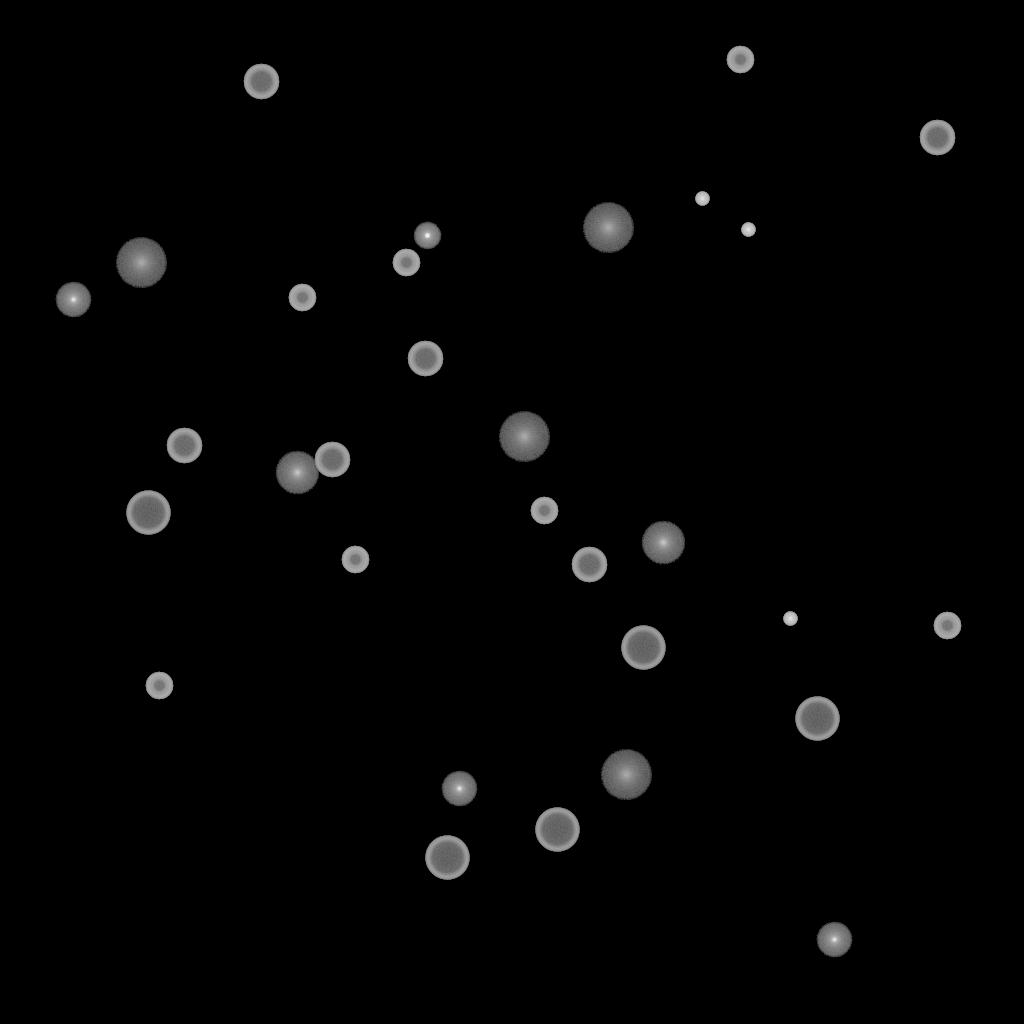depth:-10: (413, 222, 441, 250)
depth:-30: (741, 223, 755, 237), (783, 612, 797, 626), (695, 192, 709, 206)
depth:-50: (392, 249, 420, 277), (288, 284, 316, 312), (933, 612, 961, 640), (145, 672, 173, 700), (530, 497, 558, 525), (341, 546, 369, 574), (726, 46, 754, 74)
depth:-60: (166, 428, 202, 464), (314, 442, 350, 478), (407, 341, 443, 377), (571, 547, 607, 583), (243, 64, 279, 100), (919, 120, 955, 156)
depth:-70: (621, 626, 665, 670), (126, 491, 170, 535), (795, 697, 839, 741), (425, 836, 469, 880), (535, 808, 579, 852)
depth:0: (816, 922, 852, 958), (441, 771, 477, 807), (55, 282, 91, 318)
depth:10: (641, 521, 685, 565), (275, 451, 319, 495)
depth:20: (115, 238, 167, 288), (582, 203, 634, 253), (498, 412, 550, 462), (600, 750, 652, 800)
